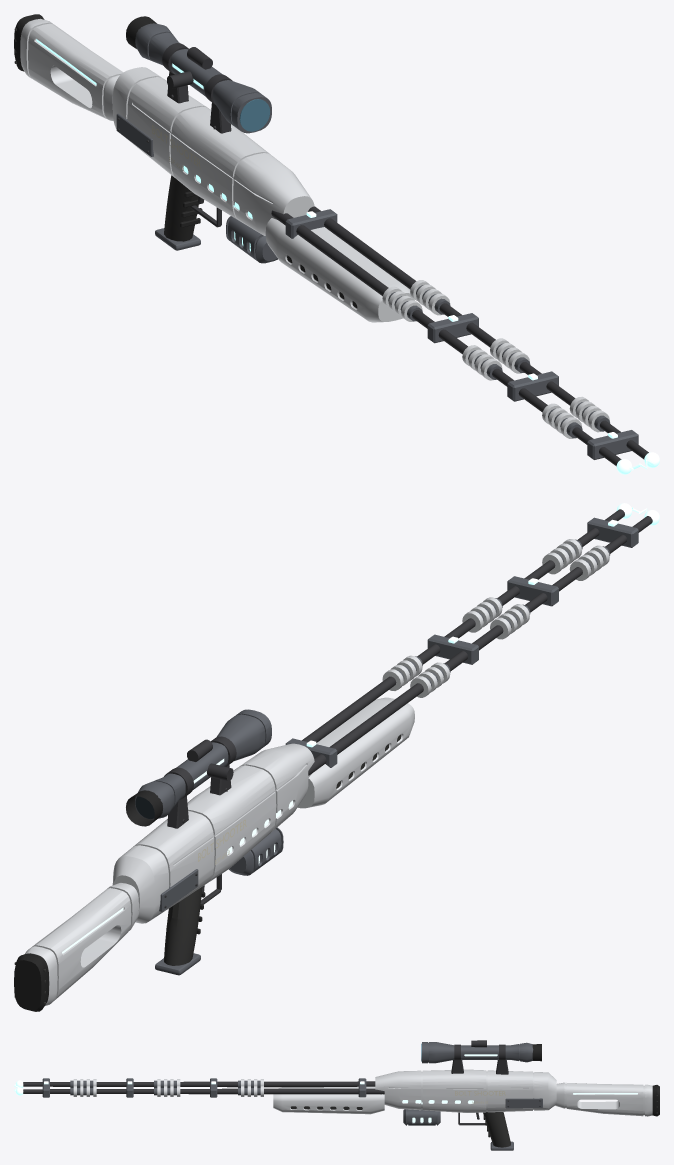
Rendered from boltshooter.glb.
3 renders of one model, top to bottom at view 1: azimuth 30°, elevation 25°; view 2: azimuth 150°, elevation 25°; view 3: azimuth 270°, elevation 25°, orthographic. The views are drawn at different scales.
Parts seen in each view (by area): view 1: Body; view 2: Body; view 3: Body.
Part boxes in pixels (x1=…): Body: x1=14, y1=14, x2=659, y2=474; Body: x1=14, y1=503, x2=659, y2=1011; Body: x1=14, y1=1040, x2=659, y2=1150.
Size of the model in its own units: 0.073 by 0.2546 by 1.39.
